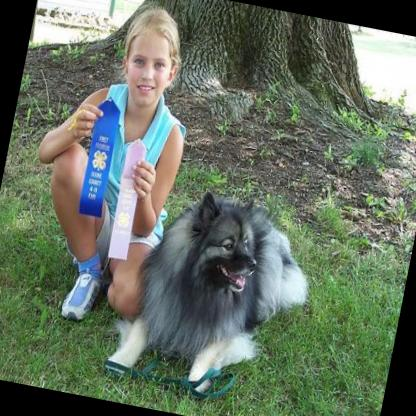keeshond: (98, 172, 324, 410)
